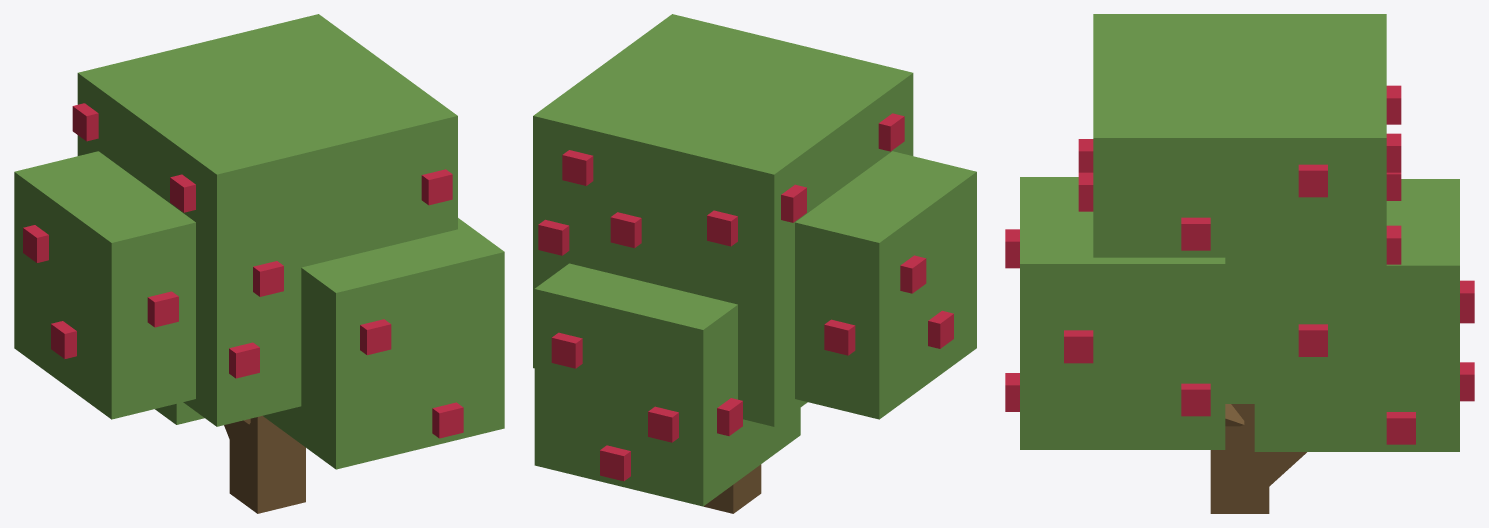
Rendered from bush.gltf.
The picture shows the model from 3 angles, left to right: view 1: azimuth 30°, elevation 25°; view 2: azimuth 150°, elevation 25°; view 3: azimuth 270°, elevation 25°; orthographic projection. The views are drawn at different scales.
Visible parts, largest first — view 1: leaves, berries, main; view 2: leaves, berries, main; view 3: leaves, berries, main, side2.
Part boxes in pixels (<box>): leaves: <box>14,14,504,469</box>; berries: <box>23,103,463,438</box>; main: <box>229,416,305,513</box>; leaves: <box>533,14,976,506</box>; berries: <box>538,113,953,481</box>; main: <box>703,464,761,513</box>; leaves: <box>1020,14,1459,451</box>; berries: <box>1005,85,1474,444</box>; main: <box>1210,404,1269,513</box>; side2: <box>1269,452,1306,486</box>.
Size of the model in its own units: 0.9375 by 1 by 1.
Materials: 1 (1 with a texture image).
